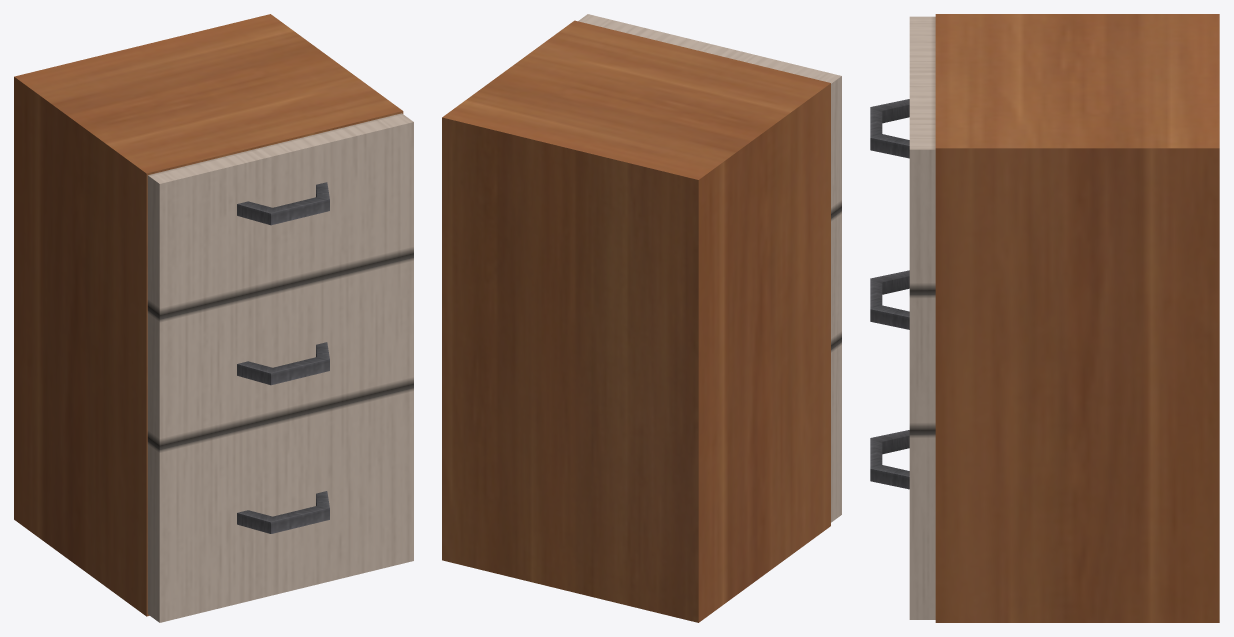
File: Kitchen_Cabinet_1B.fbx
3 renders of one model, left to right at view 1: azimuth 30°, elevation 25°; view 2: azimuth 150°, elevation 25°; view 3: azimuth 270°, elevation 25°, orthographic. The views are drawn at different scales.
Parts seen in each view (by area): view 1: polySurface1533; view 2: polySurface1533; view 3: polySurface1533.
Part boxes in pixels (left/top/right/bottom): polySurface1533: left=14, top=14, right=413, bottom=622; polySurface1533: left=442, top=14, right=841, bottom=622; polySurface1533: left=870, top=14, right=1219, bottom=622.
Bounding box in the file's own units: 0.7792 × 1.29 × 0.8565.
